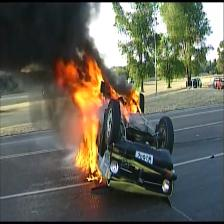fire: (53, 45, 152, 191)
smoke: (0, 0, 99, 100)
